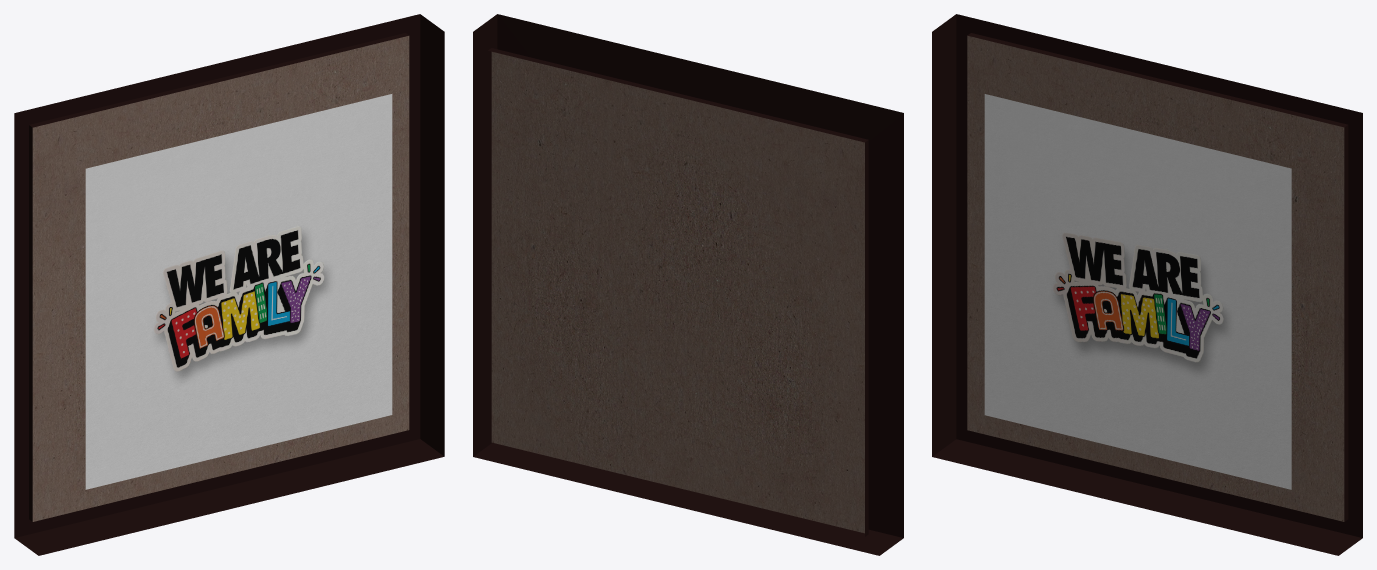
File: family.glb
The picture shows the model from 3 angles, left to right: view 1: azimuth 30°, elevation 25°; view 2: azimuth 150°, elevation 25°; view 3: azimuth 330°, elevation 25°; orthographic projection.
Parts seen in each view (by area): view 1: Frame 1; view 2: Frame 1; view 3: Frame 1.
Part boxes in pixels (x1,y1,x2,y2): Frame 1: (14, 14, 444, 555); Frame 1: (473, 14, 903, 555); Frame 1: (932, 14, 1362, 555).
Bounding box in the file's own units: 2 × 2 × 0.2091.
Materials: 3 (2 with a texture image).
